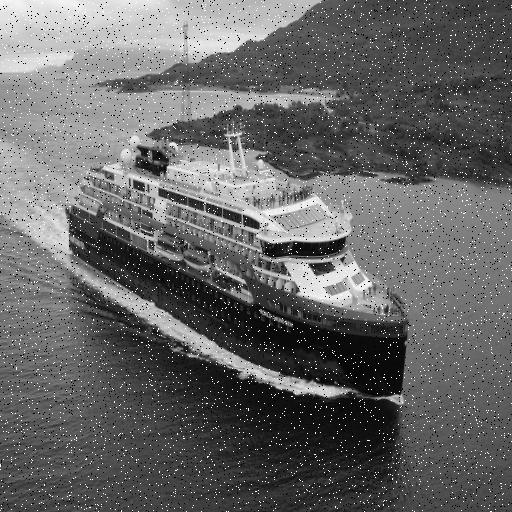cruises: (63, 124, 411, 414)
